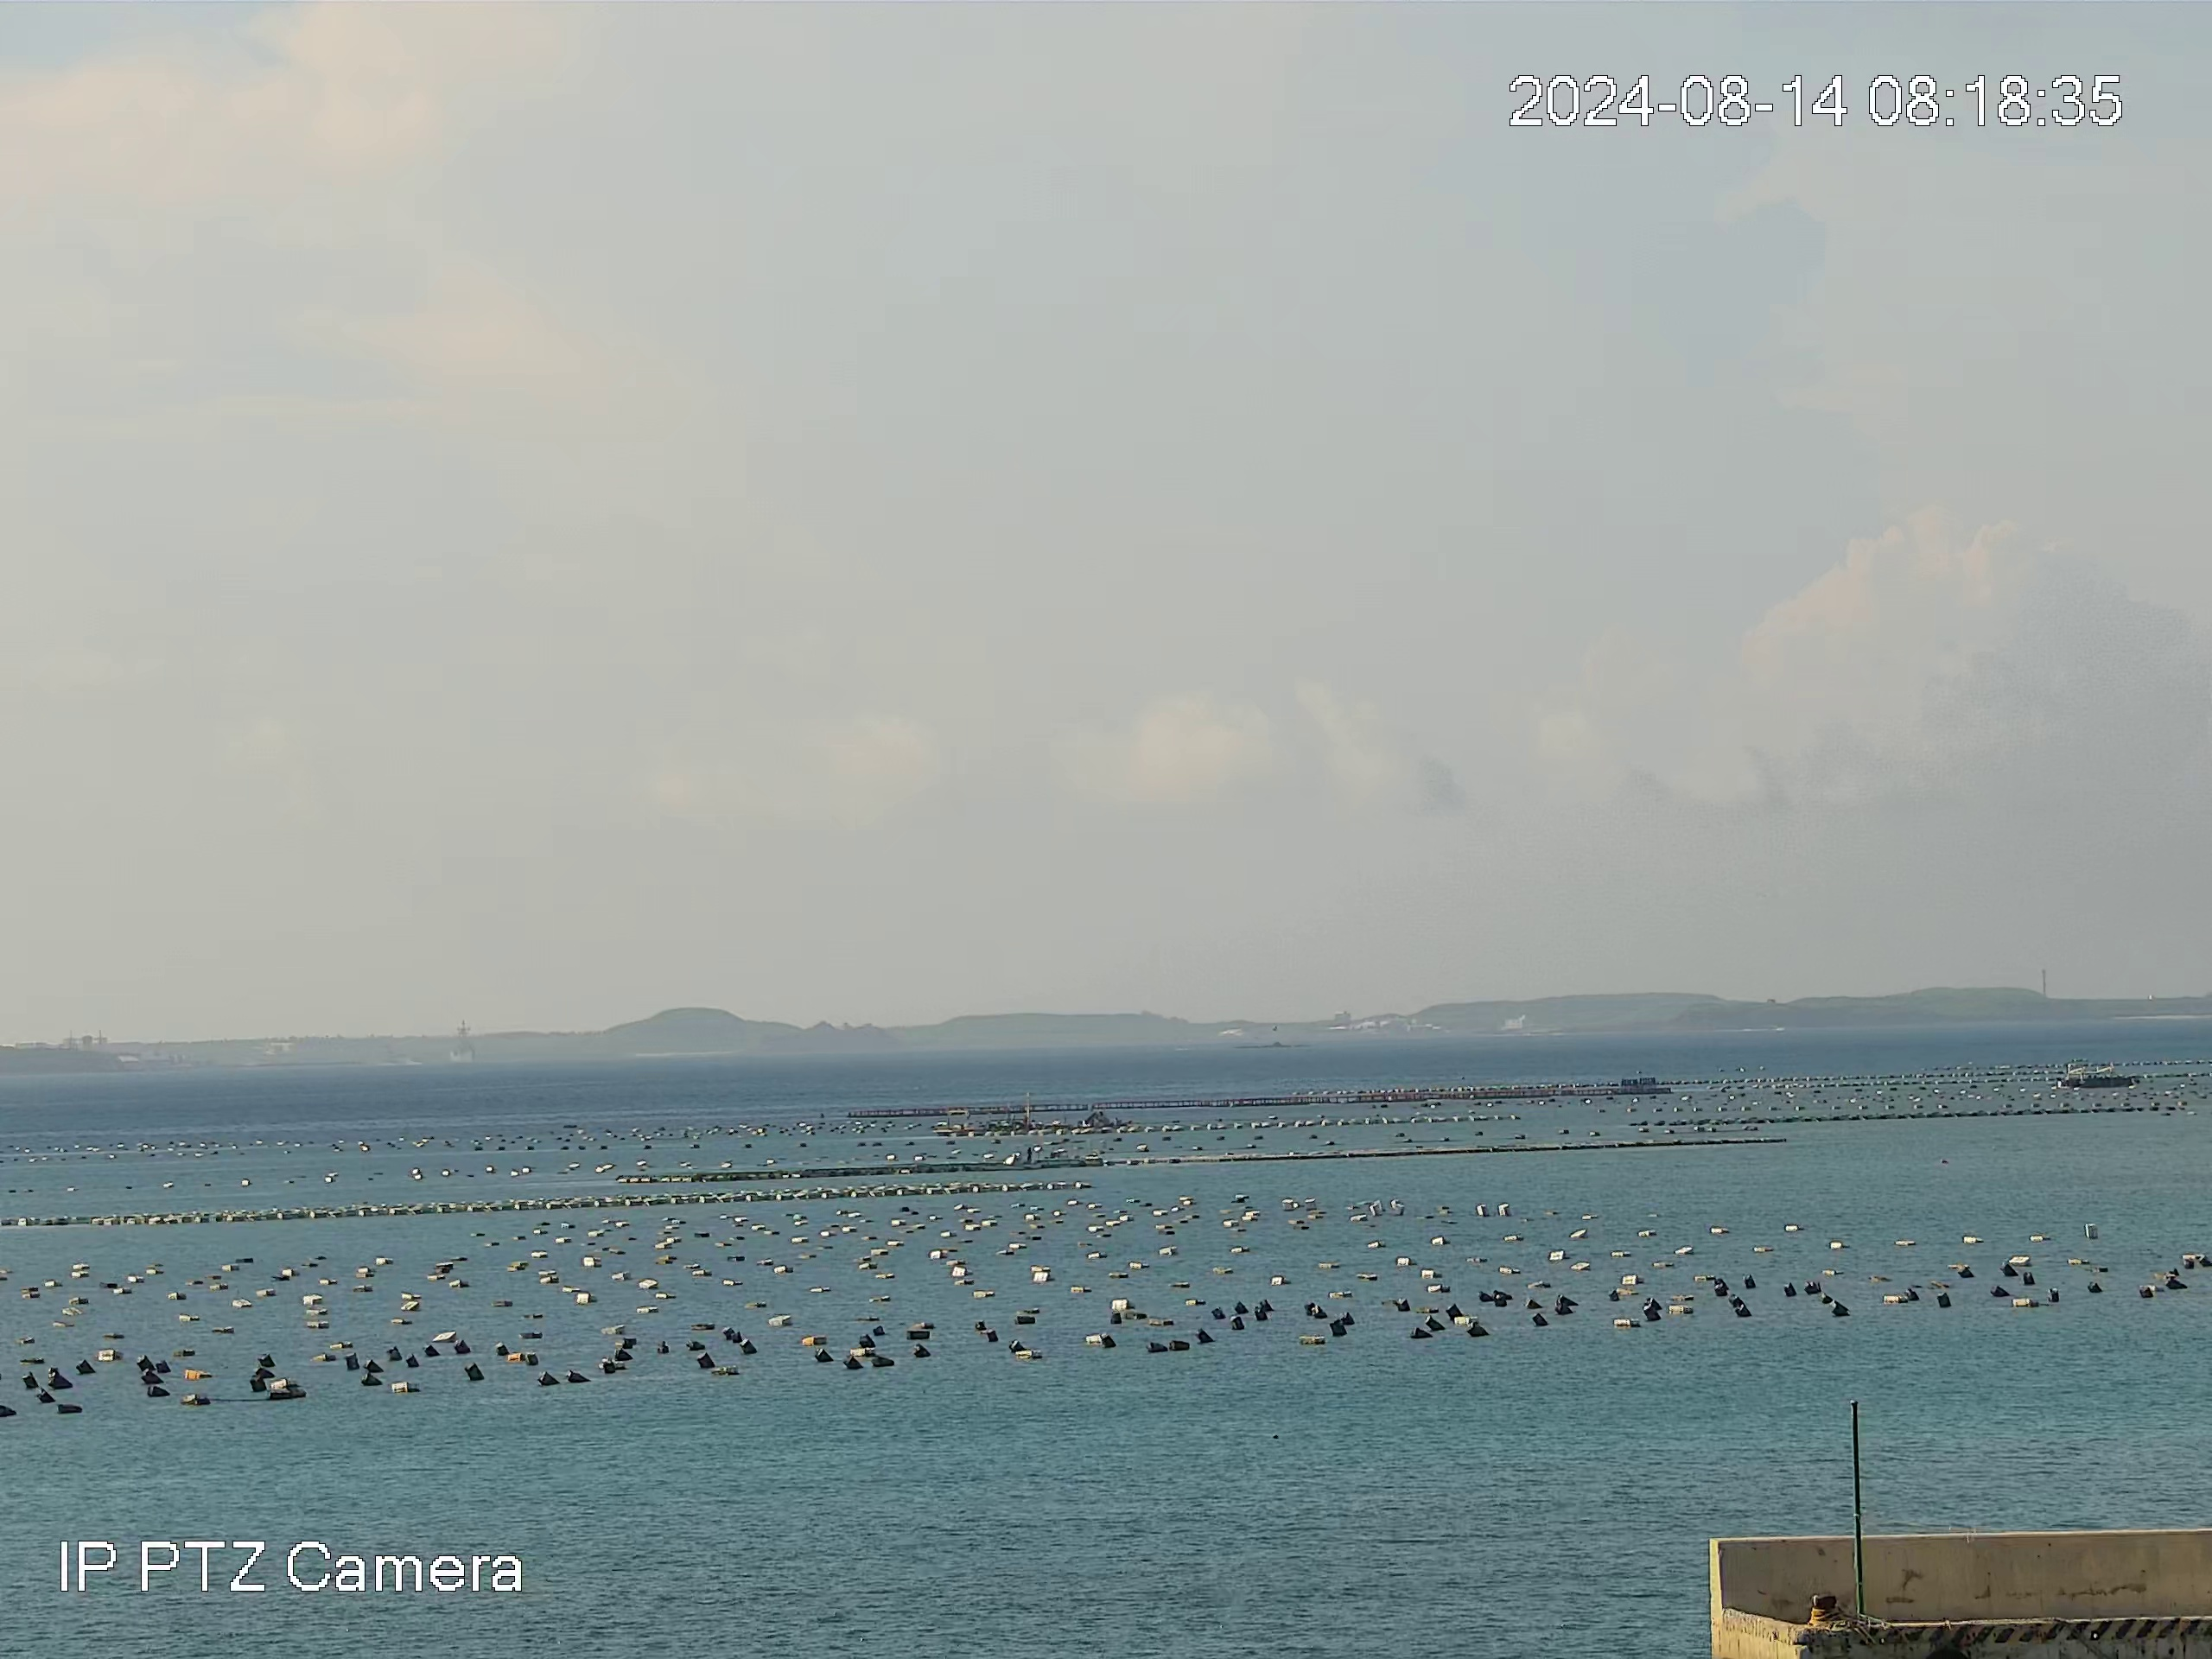boat: (2057, 1065, 2146, 1089)
